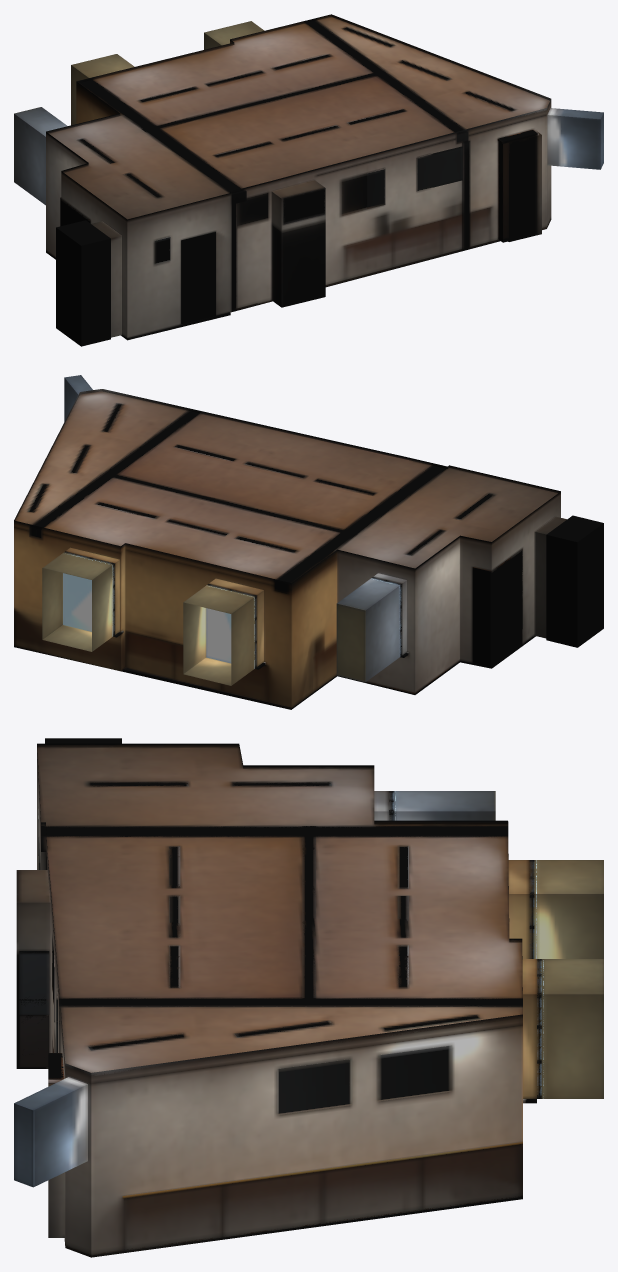
The model's file is lab_room.glb.
The picture shows the model from 3 angles, top to bottom: view 1: azimuth 30°, elevation 25°; view 2: azimuth 150°, elevation 25°; view 3: azimuth 270°, elevation 25°; orthographic projection. The views are drawn at different scales.
Visible parts, largest first — view 1: LabRoom; view 2: LabRoom; view 3: LabRoom.
Part boxes in pixels (x1,y1,x2,y2): LabRoom: [14, 14, 603, 346]; LabRoom: [14, 375, 603, 709]; LabRoom: [14, 738, 603, 1257].
Bounding box in the file's own units: 11.32 × 2.77 × 7.29.
Materials: 1 (1 with a texture image).
